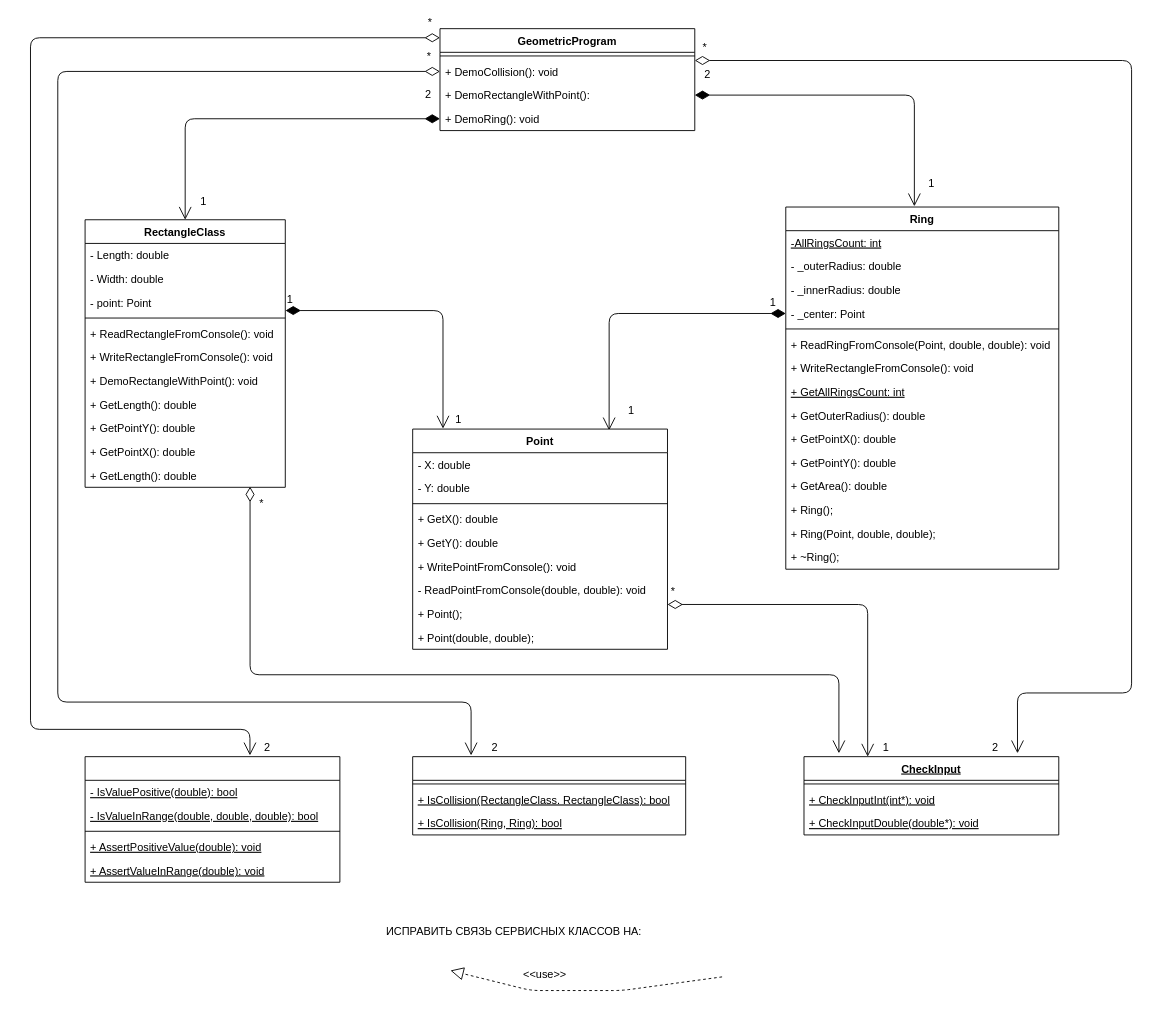
The diagram is 1163 pixels wide and 1019 high, and some of its shapes have lost their labels. Here are the shapes that lost their labels. From the top down, the box of each, then its label:
(412, 756, 686, 835): CollisionManager
(84, 756, 340, 882): DoubleValidator
